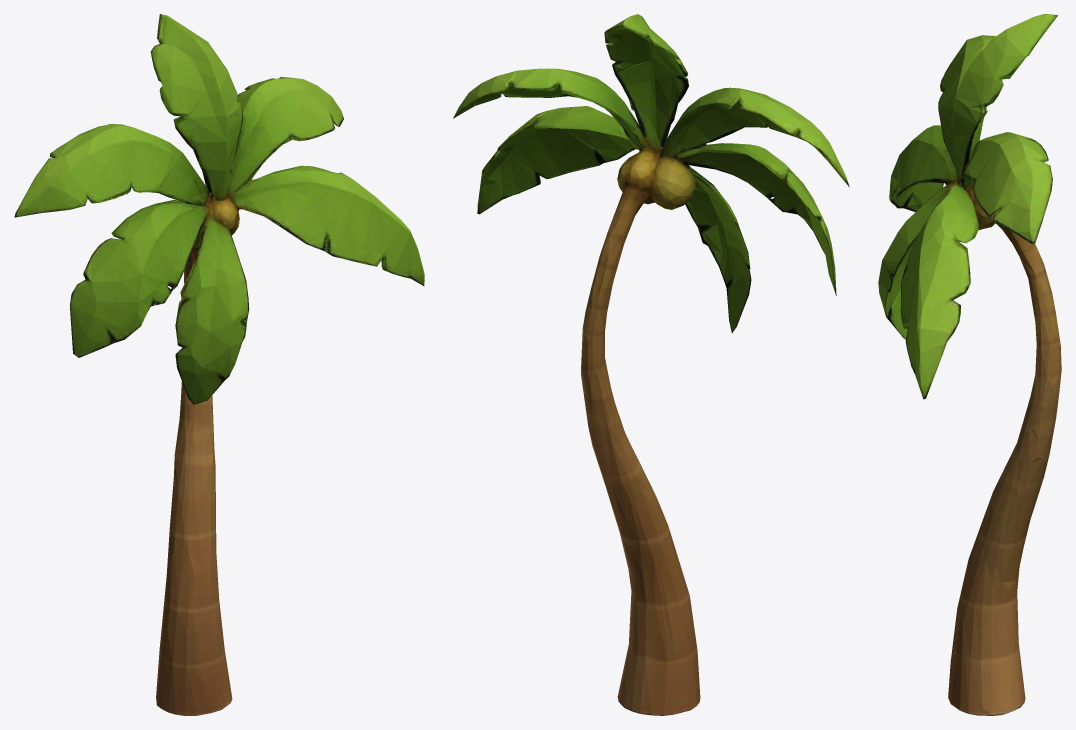
File: palmeira.glb
3 views of the same model, side by side, from view 1: azimuth 30°, elevation 25°; view 2: azimuth 150°, elevation 25°; view 3: azimuth 270°, elevation 25° (orthographic). The views are drawn at different scales.
Parts seen in each view (by area): view 1: geometry_0; view 2: geometry_0; view 3: geometry_0.
Part boxes in pixels (left/top/right/bottom): geometry_0: left=14, top=14, right=424, bottom=715; geometry_0: left=453, top=14, right=849, bottom=715; geometry_0: left=878, top=14, right=1061, bottom=715.
Size of the model in its own units: 0.6015 by 1 by 0.2422.
Materials: 1 (1 with a texture image).
